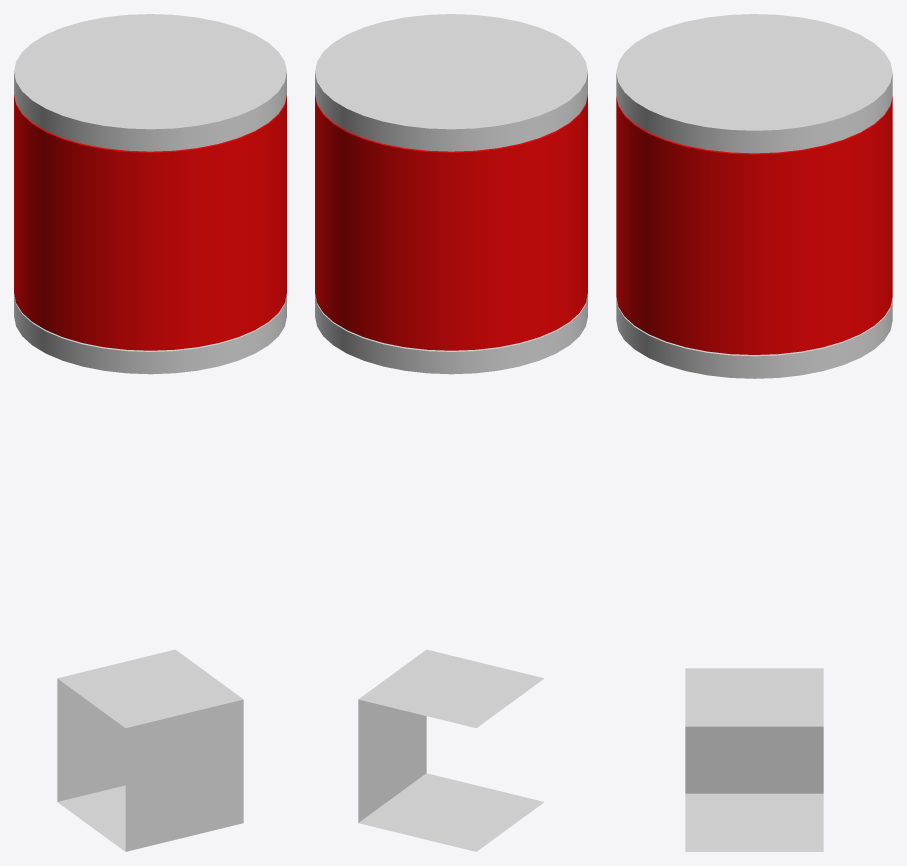
The model's file is body12.glb.
3 views of the same model, side by side, from view 1: azimuth 30°, elevation 25°; view 2: azimuth 150°, elevation 25°; view 3: azimuth 270°, elevation 25° (orthographic).
Visible parts, largest first — view 1: body2, body1; view 2: body2, body1; view 3: body2, body1.
Boxes of the visible parts, box(x1,y1,x2,y2) form: body2: box(14, 14, 286, 374); body1: box(57, 649, 243, 851); body2: box(315, 14, 587, 374); body1: box(358, 649, 544, 851); body2: box(616, 14, 892, 378); body1: box(685, 668, 823, 851).
Bounding box in the file's own units: 2 × 6 × 2.
